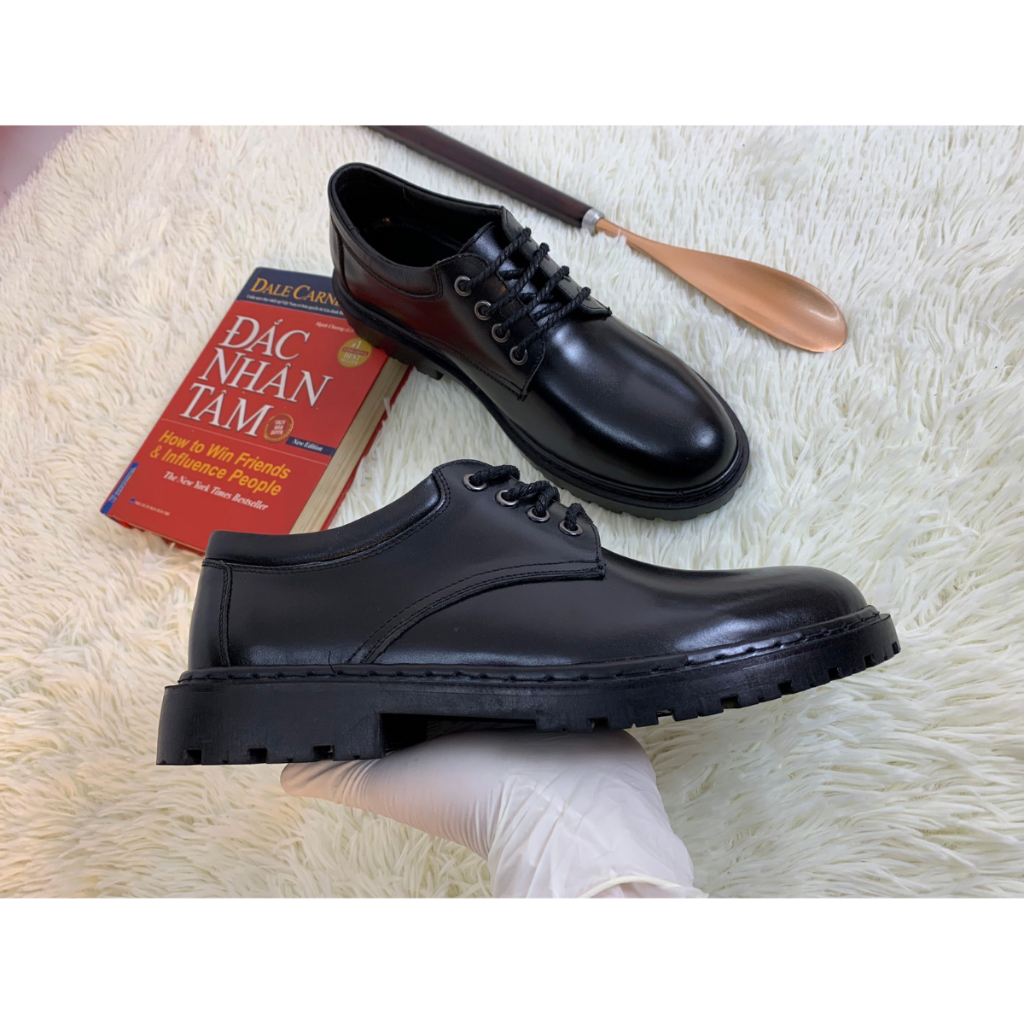derby: (153, 455, 898, 766), (327, 162, 751, 525)
